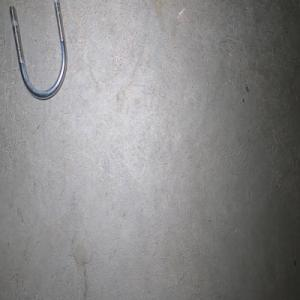ClampPart: (8, 0, 67, 101)
